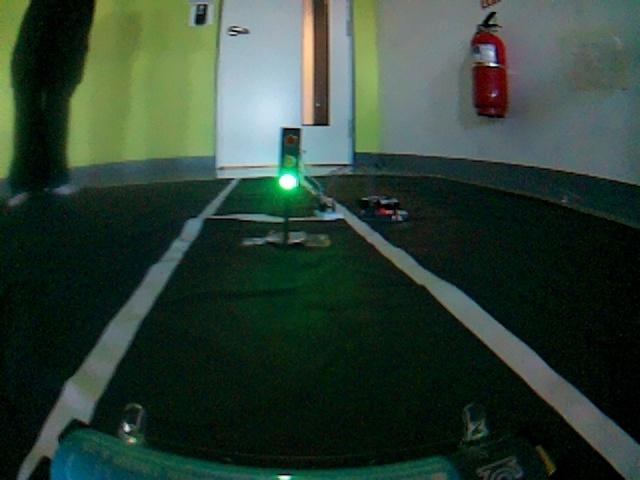go: (41, 272, 618, 480)
green_light: (227, 118, 341, 266)
